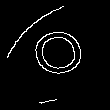O_S: (23, 25, 87, 85)
